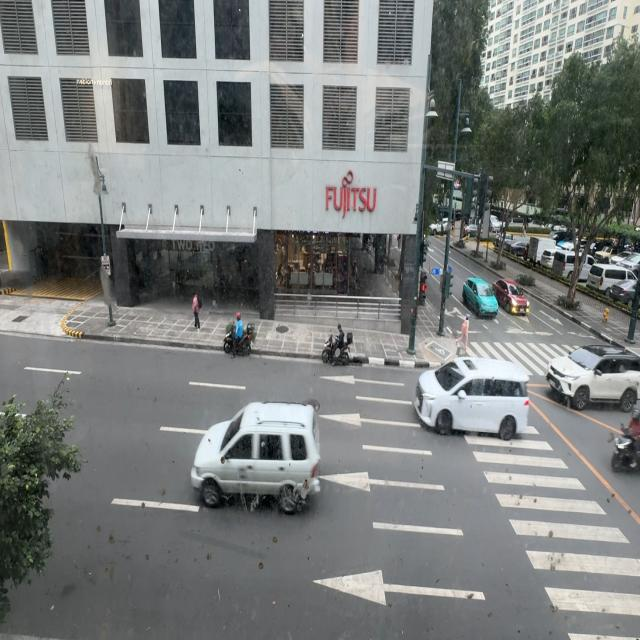crossing: (456, 314, 469, 355)
pedestrain: (192, 292, 201, 330)
